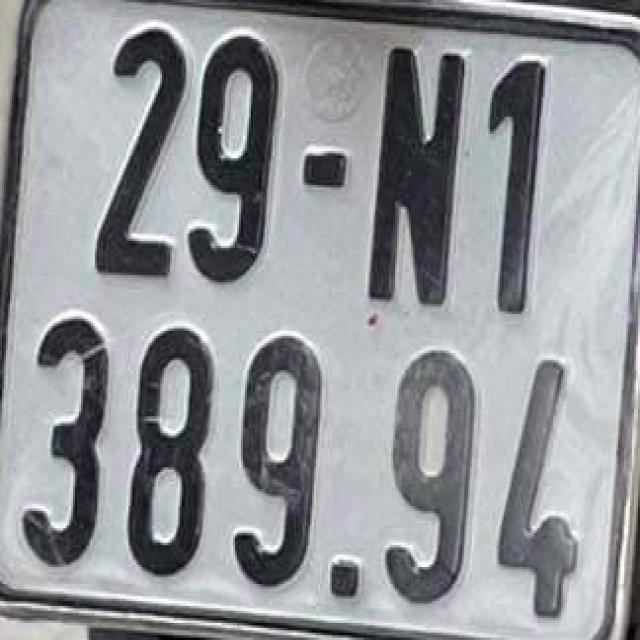1: (480, 44, 559, 319)
2: (83, 17, 186, 287)
3: (16, 306, 112, 572)
4: (490, 348, 589, 626)
8: (122, 318, 215, 582)
9: (371, 338, 482, 611), (225, 324, 328, 594), (183, 26, 284, 288)
N: (360, 36, 474, 310)
